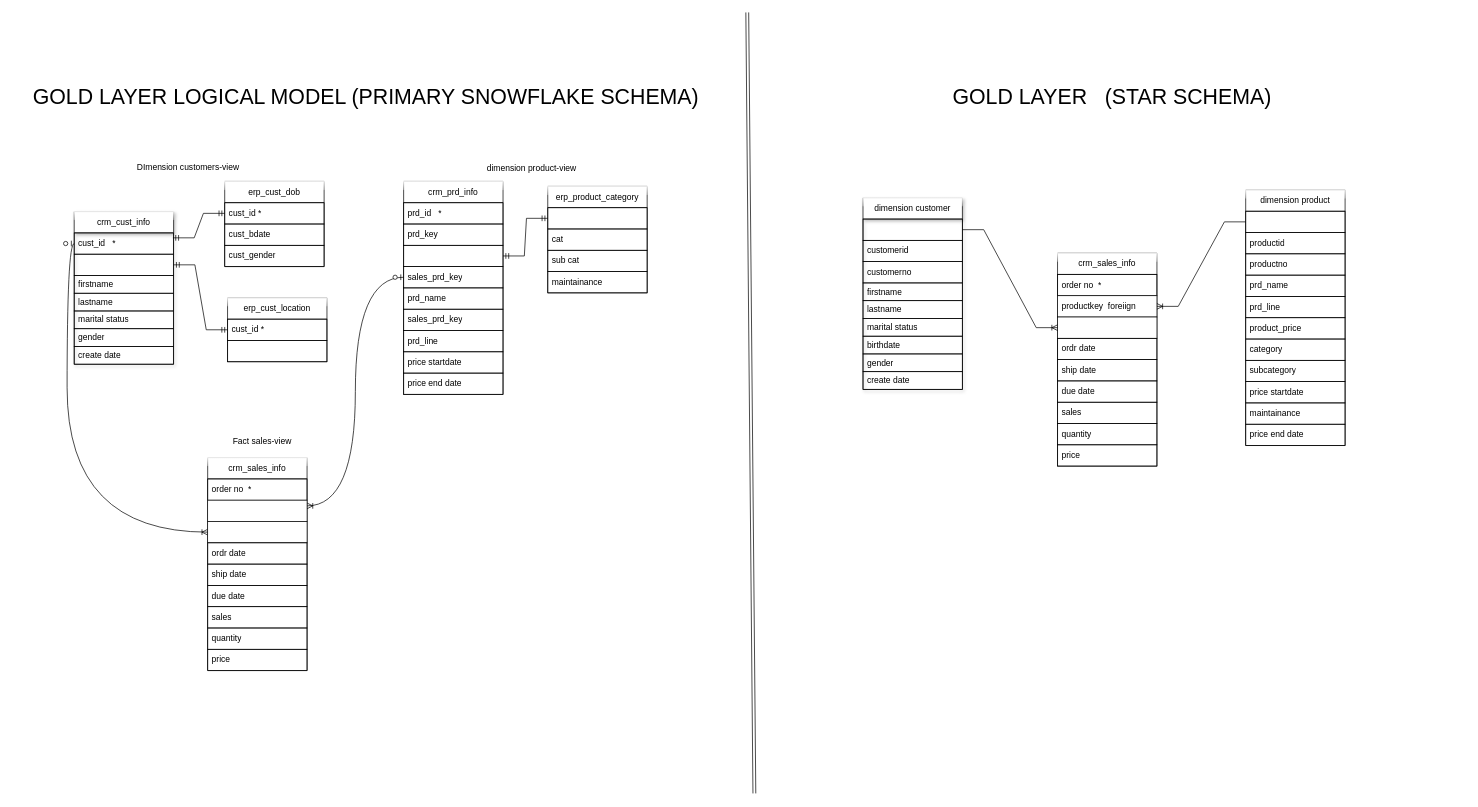
Image size: 1478x807. Some labels were removed from this diagram. Each missing label, with the centre of its shape:
cat_id *: point 597,218
cat_key: point 453,256
country: point 277,351
cust id: point 257,532
cust_key: point 123,264
customerkey foreiign: point 1107,327
customerkey pk: point 912,229
product key: point 257,510
productkey pk: point 1295,222
